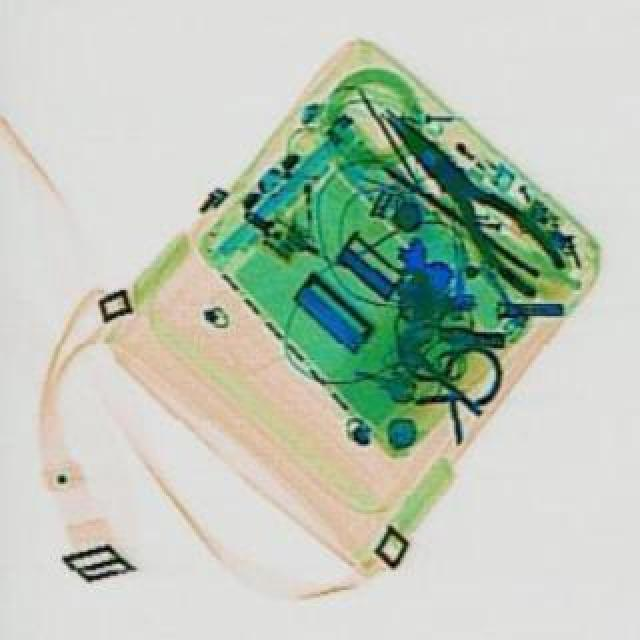wrench: (358, 88, 576, 300)
